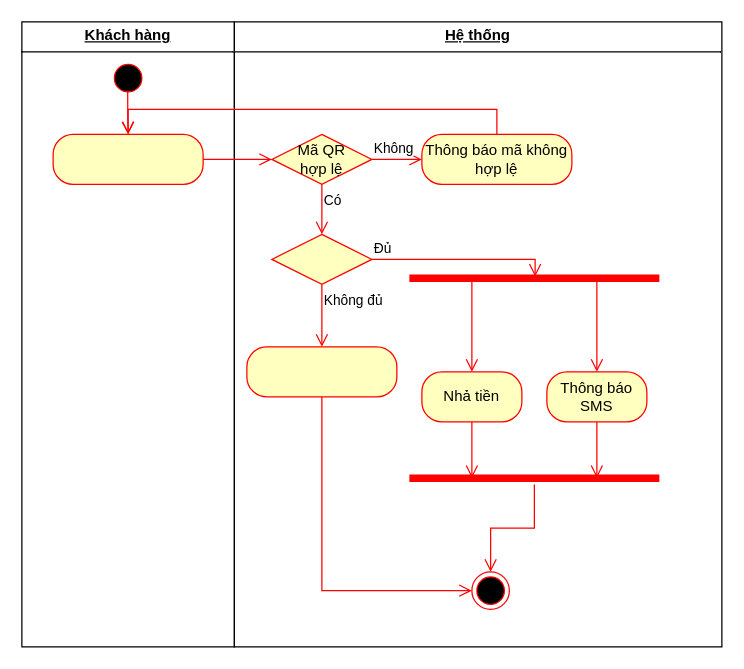
Image size: 744x669. Some labels were removed from this diagram. The centre of each missing label's shape, as x and y in pixels:
"Quét mã QR" goes at (127,158).
"Số dư" goes at (321,258).
"Thông báo số dư không đủ" goes at (321,371).
